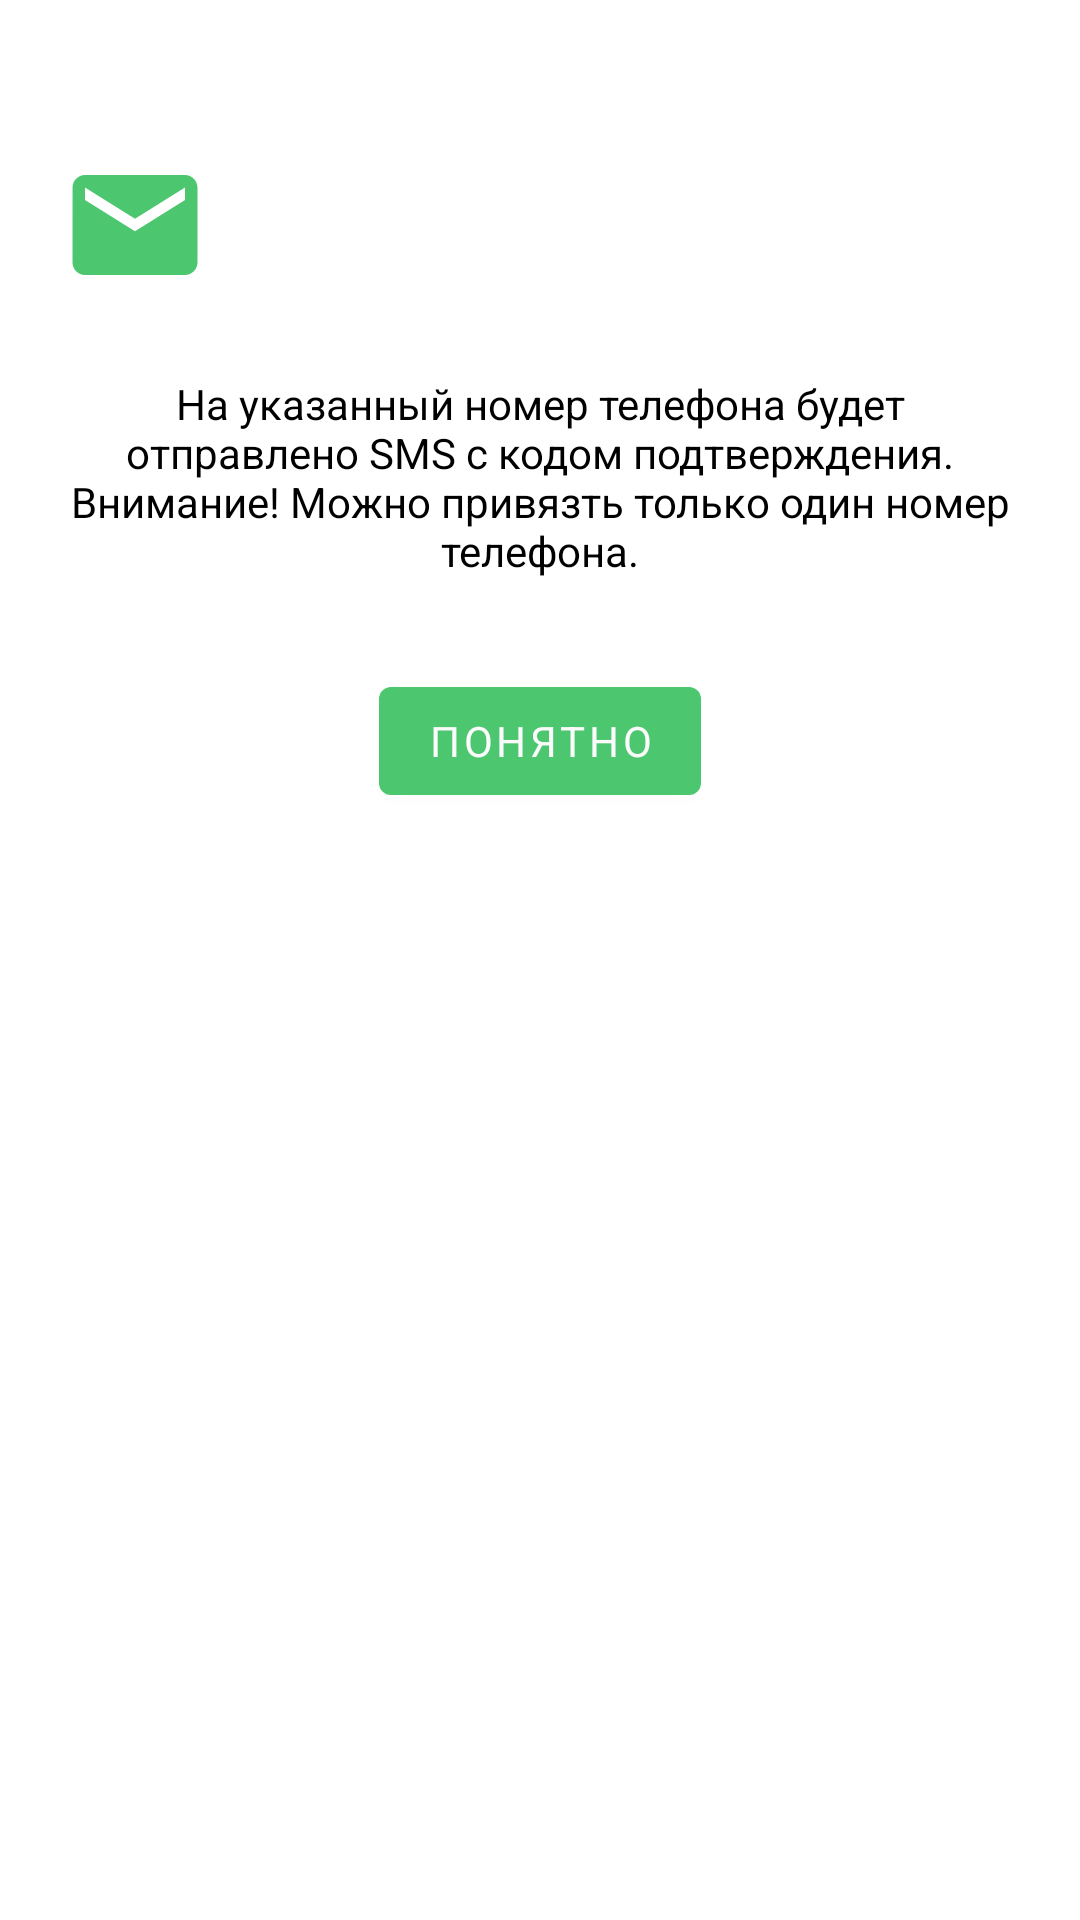

Icons on this 1080x1920 Android screen, each with its box as bbox=[x1, y1, x2, y2]:
mail: bbox=[72, 175, 198, 275]
